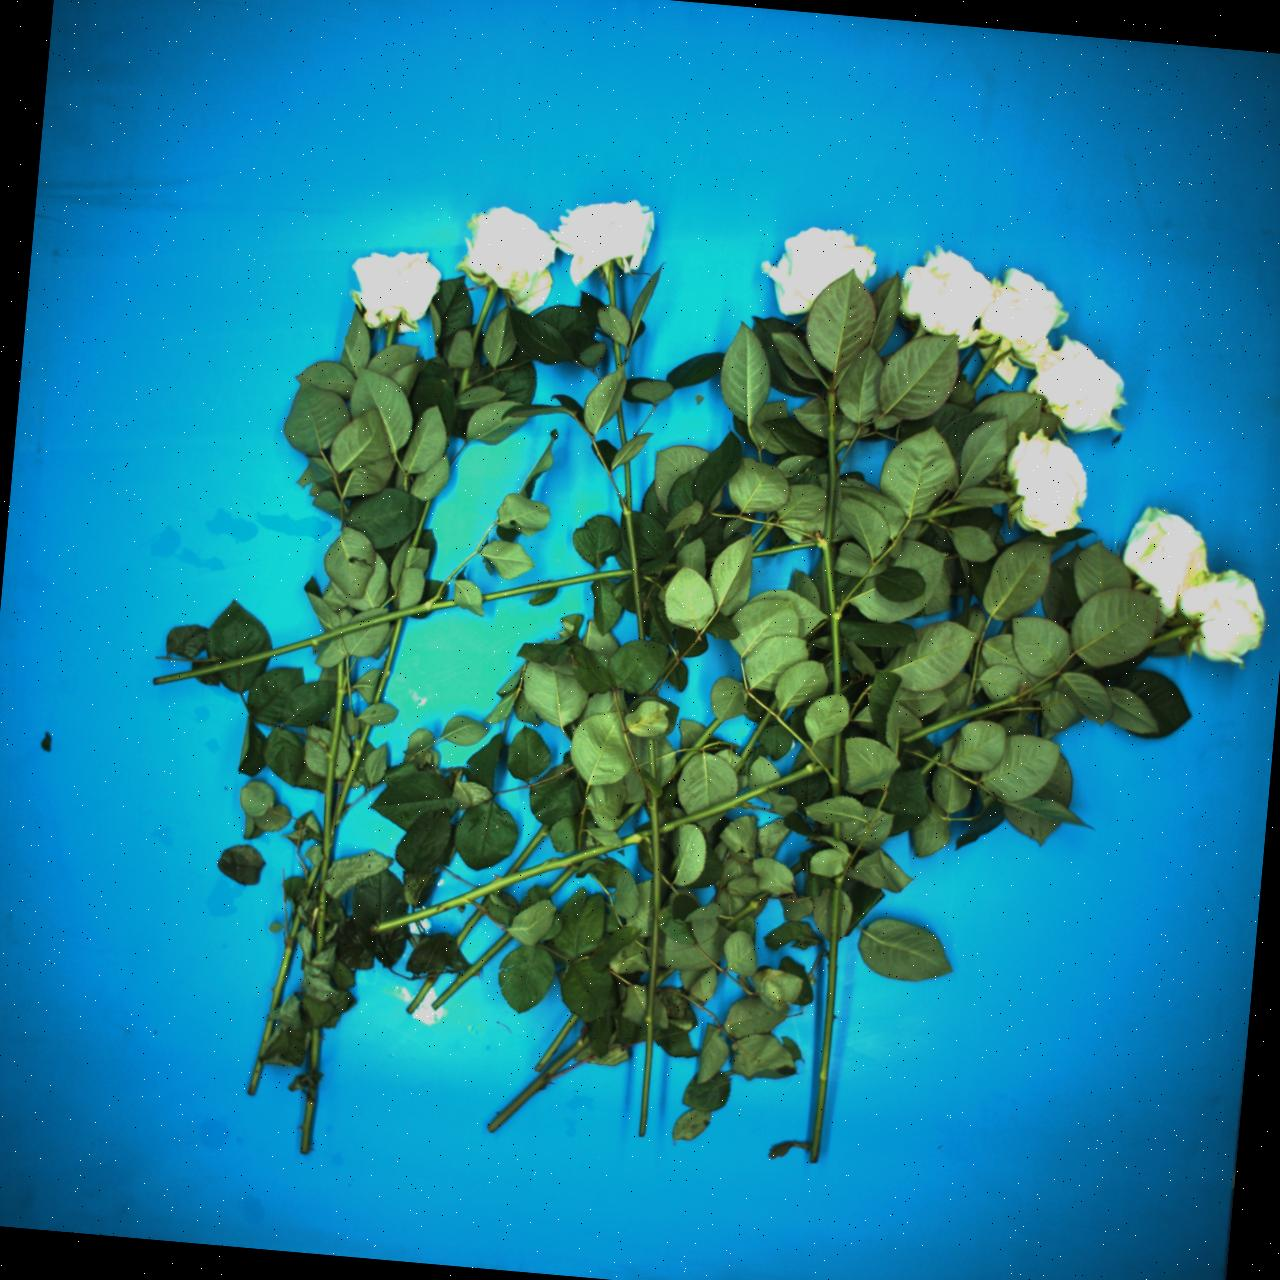Stem: (154, 594, 457, 690), (373, 836, 619, 937), (659, 762, 824, 835), (808, 874, 846, 1164), (484, 1033, 593, 1135), (899, 679, 1055, 744), (639, 791, 662, 1138), (818, 393, 842, 695), (316, 660, 348, 884), (429, 931, 513, 1012), (483, 567, 631, 601), (619, 463, 646, 641), (659, 717, 723, 789), (331, 723, 372, 825), (268, 915, 304, 1013), (532, 1013, 580, 1074), (504, 822, 551, 880), (738, 697, 781, 760), (373, 618, 402, 704), (467, 285, 498, 353), (452, 897, 493, 947), (722, 890, 770, 928), (404, 967, 441, 1016), (910, 501, 975, 524), (969, 347, 1001, 389), (1145, 622, 1194, 647), (410, 497, 434, 549), (751, 540, 816, 558), (300, 1089, 316, 1156), (652, 647, 683, 680), (546, 863, 578, 896), (748, 522, 775, 553), (258, 1019, 277, 1056), (316, 888, 327, 954), (620, 828, 653, 847), (246, 1060, 264, 1096), (618, 799, 644, 823), (832, 733, 842, 797), (605, 264, 618, 309), (301, 866, 319, 897), (653, 964, 676, 986), (309, 1028, 321, 1070), (615, 403, 627, 445), (647, 740, 658, 781), (457, 367, 470, 397), (832, 436, 851, 455), (613, 340, 622, 369), (386, 322, 396, 348), (790, 860, 805, 876), (832, 821, 842, 840), (662, 563, 676, 571), (1007, 490, 1016, 501), (704, 557, 717, 564)
flower: (1017, 327, 1148, 456), (444, 196, 574, 318), (1102, 495, 1226, 619), (753, 206, 884, 322), (884, 236, 1003, 352), (544, 188, 666, 290), (966, 259, 1077, 368), (1177, 567, 1272, 673), (1008, 431, 1087, 537), (353, 252, 441, 333)
